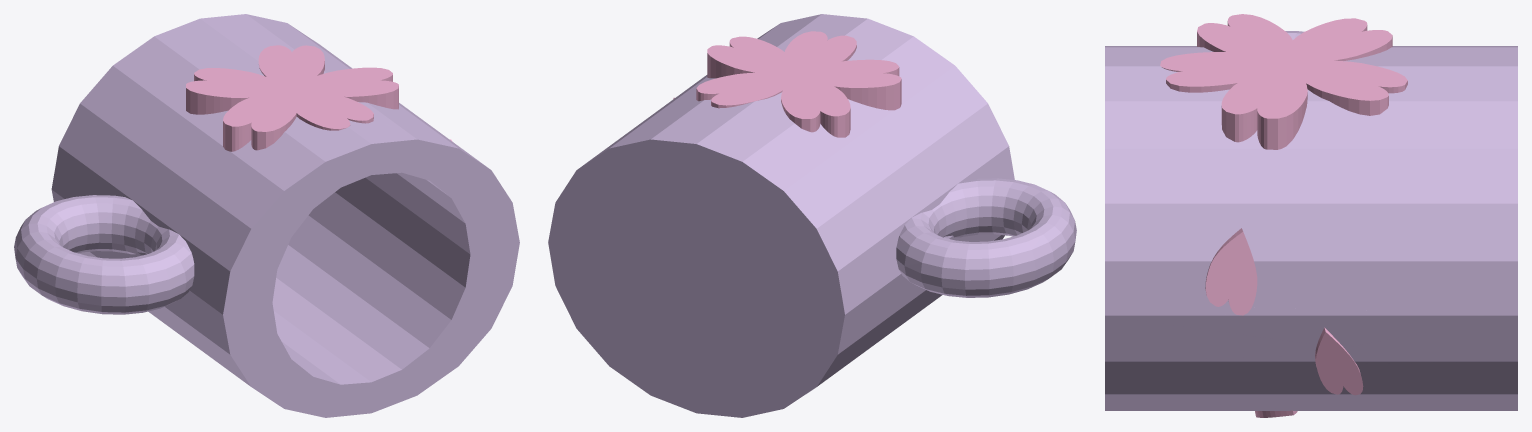
File: tinker.obj
3 views of the same model, side by side, from view 1: azimuth 30°, elevation 25°; view 2: azimuth 150°, elevation 25°; view 3: azimuth 270°, elevation 25° (orthographic). The views are drawn at different scales.
Visible parts, largest first — view 1: group_0_13877221, group_0_15708628; view 2: group_0_13877221, group_0_15708628; view 3: group_0_13877221, group_0_15708628.
Part boxes in pixels (x1,y1,x2,y2): group_0_13877221: (14, 14, 519, 417); group_0_15708628: (186, 45, 452, 151); group_0_13877221: (548, 14, 1076, 417); group_0_15708628: (673, 31, 901, 137); group_0_13877221: (1105, 31, 1517, 410); group_0_15708628: (1160, 14, 1407, 417).
Bounding box in the file's own units: 42.21 × 26 × 30.
